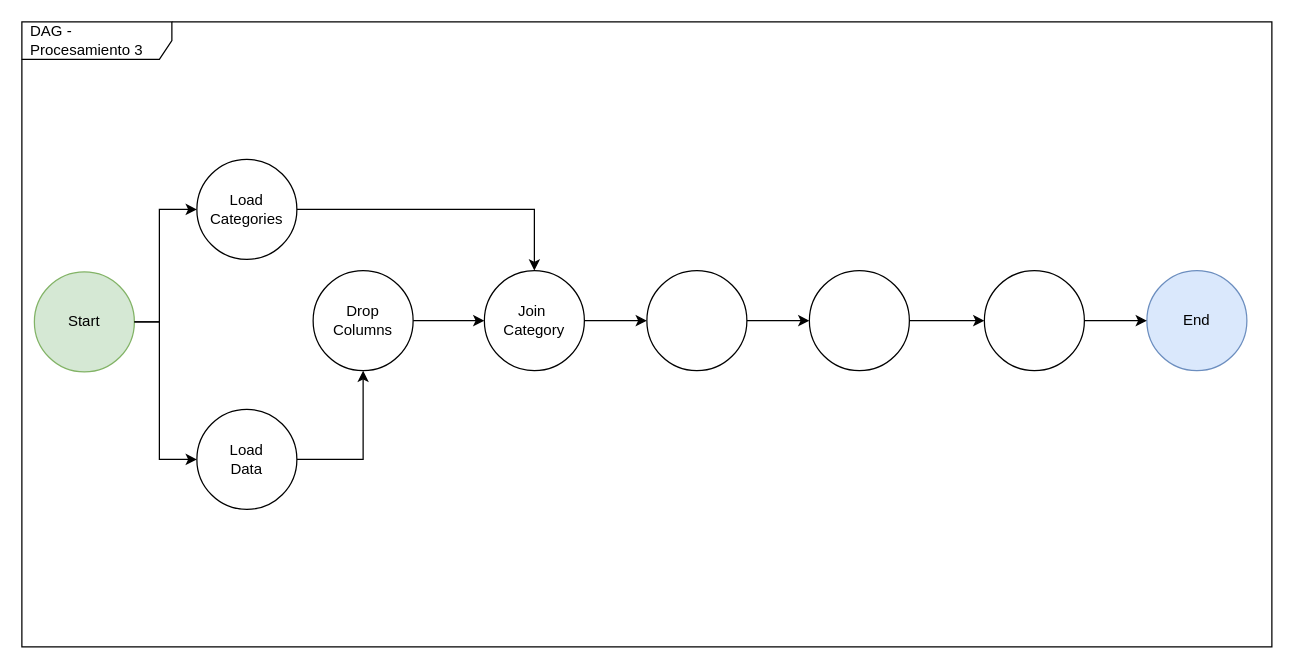
Some shapes in this 1294 by 669 pixel diagram are drawn without their labels. Each missing label, with the centre of its shape:
Filter by Likes: point (696, 320)
Filter Top: point (1033, 320)
Group by date and sum views: point (858, 320)
